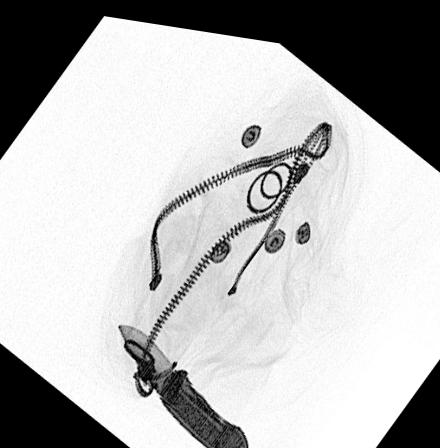Knife: (112, 316, 249, 448)
